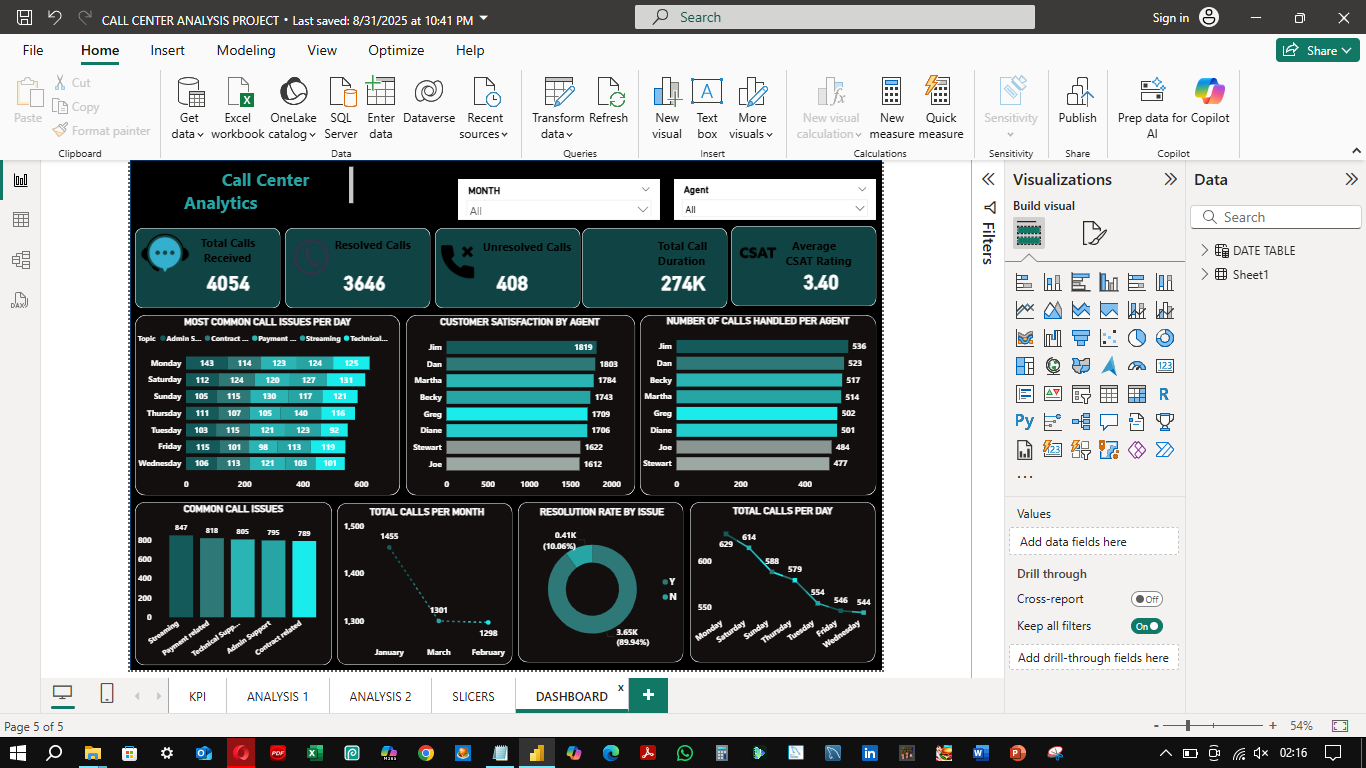

Layout of this report page (visuals, bound fields, positions):
{"tool":"powerbi","page":{"name":"DASHBOARD","canvas":[1400,950],"ordinal":4},"visuals":[{"type":"shape","box":[0,0,1501.2,1200],"z":0,"group":"g1"},{"type":"textbox","box":[95,7.5,326,104.3],"z":1000,"group":"g1"},{"type":"shape","box":[9.3,126.8,270.9,149.5],"z":2000,"group":"g1"},{"type":"shape","box":[1119.7,122.8,270.9,149.5],"z":3000,"group":"g1"},{"type":"shape","box":[842.1,126.8,270.9,149.5],"z":4000,"group":"g1"},{"type":"shape","box":[567.2,126.8,270.9,149.5],"z":5000,"group":"g1"},{"type":"shape","box":[288.3,126.8,270.9,149.5],"z":6000,"group":"g1"},{"type":"shape","box":[9.3,289.6,493.8,336.3],"z":7000,"group":"g1"},{"type":"shape","box":[9.3,636.6,367,304.3],"z":8000,"group":"g1"},{"type":"shape","box":[385.7,639.3,327,301.6],"z":9000,"group":"g1"},{"type":"shape","box":[723.4,637.9,308.3,299],"z":10000,"group":"g1"},{"type":"shape","box":[1043.7,637.9,345.7,299],"z":11000,"group":"g1"},{"type":"shape","box":[513.8,289.6,427.1,336.3],"z":12000,"group":"g1"},{"type":"shape","box":[950.2,289.6,440.4,336.3],"z":13000,"group":"g1"},{"type":"slicer","fields":{"Values":["Sheet1.Agent"]},"box":[1013.3,35.4,376.3,76.4],"z":14000,"group":"g1"},{"type":"slicer","fields":{"Values":["DATE TABLE.MONTH"]},"box":[611,35.4,376.3,76.4],"z":15000,"group":"g1"},{"type":"barChart","title":"MOST COMMON CALL ISSUES PER DAY","fields":{"Category":["DATE TABLE.DAY"],"Y":["Sheet1.Call Id"],"Series":["Sheet1.Topic"]},"box":[9.3,290.6,493.6,333.4],"z":16000,"group":"g1"},{"type":"clusteredBarChart","title":"CUSTOMER SATISFACTION BY AGENT","fields":{"Category":["Sheet1.Agent"],"Y":["Sheet1.Satisfaction rating"]},"box":[521.8,290.9,409.7,333.7],"z":17000,"group":"g1"},{"type":"barChart","title":"NUMBER OF CALLS HANDLED PER AGENT","fields":{"Category":["Sheet1.Agent"],"Y":["Sheet1.Call Id"]},"box":[950,288.7,439.6,335.3],"z":18000,"group":"g1"},{"type":"columnChart","title":"COMMON CALL ISSUES","fields":{"Category":["Sheet1.Topic"],"Y":["Sheet1.Call Id"]},"box":[9.3,638.9,367,299.9],"z":19000,"group":"g1"},{"type":"lineChart","title":"TOTAL CALLS PER DAY","fields":{"Category":["DATE TABLE.DAY"],"Y":["Sheet1.Call Id"]},"box":[1043.7,643.3,345.7,288.3],"z":20000,"group":"g1"},{"type":"lineChart","title":"TOTAL CALLS PER MONTH","fields":{"Category":["DATE TABLE.MONTH"],"Y":["Sheet1.Call Id"]},"box":[392.4,644.6,320.3,293.6],"z":21000,"group":"g1"},{"type":"donutChart","title":"RESOLUTION RATE BY ISSUE","fields":{"Category":["Sheet1.Resolved"],"Y":["Sheet1.Topic"]},"box":[726.5,644.5,305.5,288.7],"z":22000,"group":"g1"},{"type":"card","fields":{"Values":["Sheet1.TOTAL CALLS RECEIVED"]},"box":[78.7,190.8,209.5,70.7],"z":23000,"group":"g1"},{"type":"card","fields":{"Values":["Sheet1.AVERAGE CSAT RATING"]},"box":[1183.8,190.8,205.5,69.4],"z":24000,"group":"g1"},{"type":"card","fields":{"Values":["Sheet1.UNRESOLVED CALLS"]},"box":[572.5,166.8,280.3,117.4],"z":25000,"group":"g1"},{"type":"card","fields":{"Values":["Sheet1.RESOLVED CALLS"]},"box":[352.3,188.2,169.5,76.1],"z":26000,"group":"g1"},{"type":"card","fields":{"Values":["DATE TABLE.TOTAL CALLS DURATION"]},"box":[930.2,197.5,201.5,57.4],"z":27000,"group":"g1"},{"type":"textbox","box":[126.8,133.5,132.1,80.1],"z":28000,"group":"g1"},{"type":"textbox","box":[376.3,137.8,165.8,52.2],"z":29000,"group":"g1"},{"type":"textbox","box":[978.3,140.1,132.1,66.7],"z":30000,"group":"g1"},{"type":"textbox","box":[1217.2,140.1,150.8,66.7],"z":31000,"group":"g1"},{"type":"textbox","box":[652,141.6,182.5,67.1],"z":32000,"group":"g1"},{"type":"group","id":"g1","title":"Group 1","box":[0,0,1501.2,1200],"z":32007},{"type":"image","box":[9.3,122.9,111.8,96.9],"z":33000,"group":"g1"},{"type":"image","box":[1125.1,126.7,87.5,91.3],"z":34000,"group":"g1"},{"type":"image","box":[299.9,143.4,76.4,76.4],"z":35000,"group":"g1"},{"type":"image","box":[568.1,141.6,83.8,95],"z":36000,"group":"g1"}]}

Visuals, with their boxes on the page's 1400x950 design canvas (x1, y1, x2, y2). These are canvas units, not pixel positions in the 1366x768 screenshot, which may show the page scaled, cropped or inside an application window:
shape: Rect(0, 0, 1501, 1200)
textbox: Rect(95, 8, 421, 112)
shape: Rect(9, 127, 280, 276)
shape: Rect(1120, 123, 1391, 272)
shape: Rect(842, 127, 1113, 276)
shape: Rect(567, 127, 838, 276)
shape: Rect(288, 127, 559, 276)
shape: Rect(9, 290, 503, 626)
shape: Rect(9, 637, 376, 941)
shape: Rect(386, 639, 713, 941)
shape: Rect(723, 638, 1032, 937)
shape: Rect(1044, 638, 1389, 937)
shape: Rect(514, 290, 941, 626)
shape: Rect(950, 290, 1391, 626)
slicer - Sheet1.Agent: Rect(1013, 35, 1390, 112)
slicer - DATE TABLE.MONTH: Rect(611, 35, 987, 112)
"MOST COMMON CALL ISSUES PER DAY" barChart: Rect(9, 291, 503, 624)
"CUSTOMER SATISFACTION BY AGENT" clusteredBarChart: Rect(522, 291, 932, 625)
"NUMBER OF CALLS HANDLED PER AGENT" barChart: Rect(950, 289, 1390, 624)
"COMMON CALL ISSUES" columnChart: Rect(9, 639, 376, 939)
"TOTAL CALLS PER DAY" lineChart: Rect(1044, 643, 1389, 932)
"TOTAL CALLS PER MONTH" lineChart: Rect(392, 645, 713, 938)
"RESOLUTION RATE BY ISSUE" donutChart: Rect(726, 644, 1032, 933)
card - Sheet1.TOTAL CALLS RECEIVED: Rect(79, 191, 288, 262)
card - Sheet1.AVERAGE CSAT RATING: Rect(1184, 191, 1389, 260)
card - Sheet1.UNRESOLVED CALLS: Rect(572, 167, 853, 284)
card - Sheet1.RESOLVED CALLS: Rect(352, 188, 522, 264)
card - DATE TABLE.TOTAL CALLS DURATION: Rect(930, 198, 1132, 255)
textbox: Rect(127, 134, 259, 214)
textbox: Rect(376, 138, 542, 190)
textbox: Rect(978, 140, 1110, 207)
textbox: Rect(1217, 140, 1368, 207)
textbox: Rect(652, 142, 834, 209)
"Group 1" group: Rect(0, 0, 1501, 1200)
image: Rect(9, 123, 121, 220)
image: Rect(1125, 127, 1213, 218)
image: Rect(300, 143, 376, 220)
image: Rect(568, 142, 652, 237)
